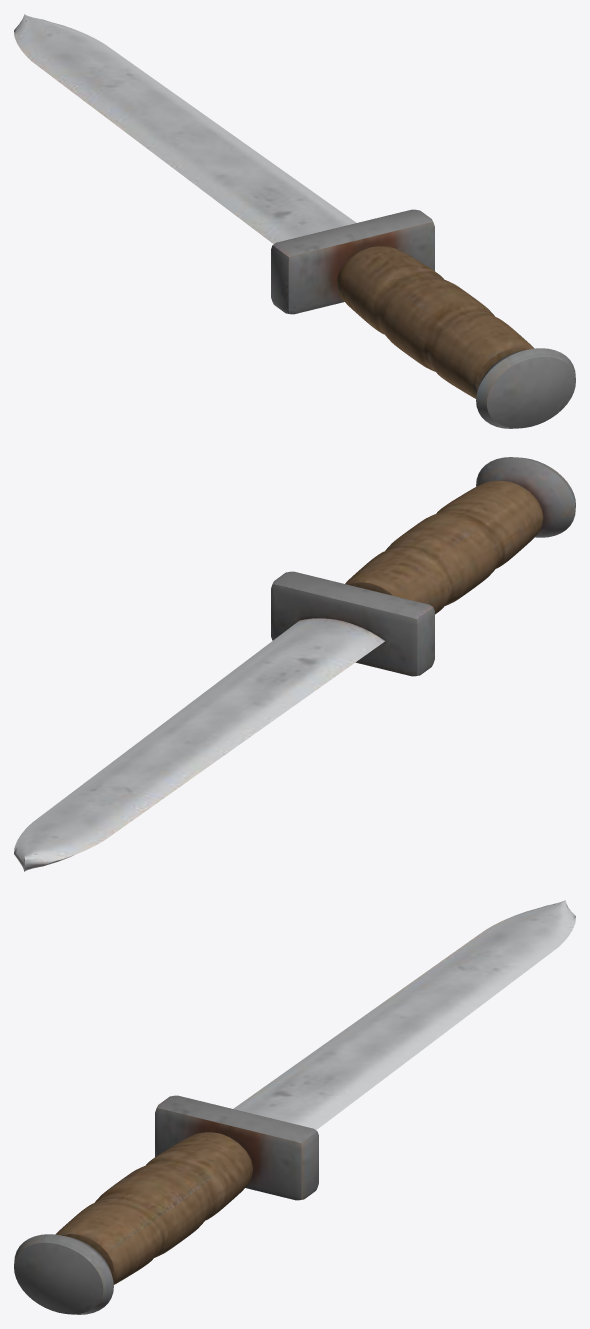
File: combat_knife.glb
3 views of the same model, one above another, from view 1: azimuth 30°, elevation 25°; view 2: azimuth 150°, elevation 25°; view 3: azimuth 330°, elevation 25° (orthographic).
Visible parts, largest first — view 1: combat_knife; view 2: combat_knife; view 3: combat_knife.
Boxes of the visible parts, box(x1,y1,x2,y2) form: combat_knife: box(14, 14, 575, 428); combat_knife: box(14, 457, 575, 871); combat_knife: box(14, 900, 575, 1314).
Size of the model in its own units: 0.0598 by 0.0292 by 0.3519.
Materials: 1 (1 with a texture image).
